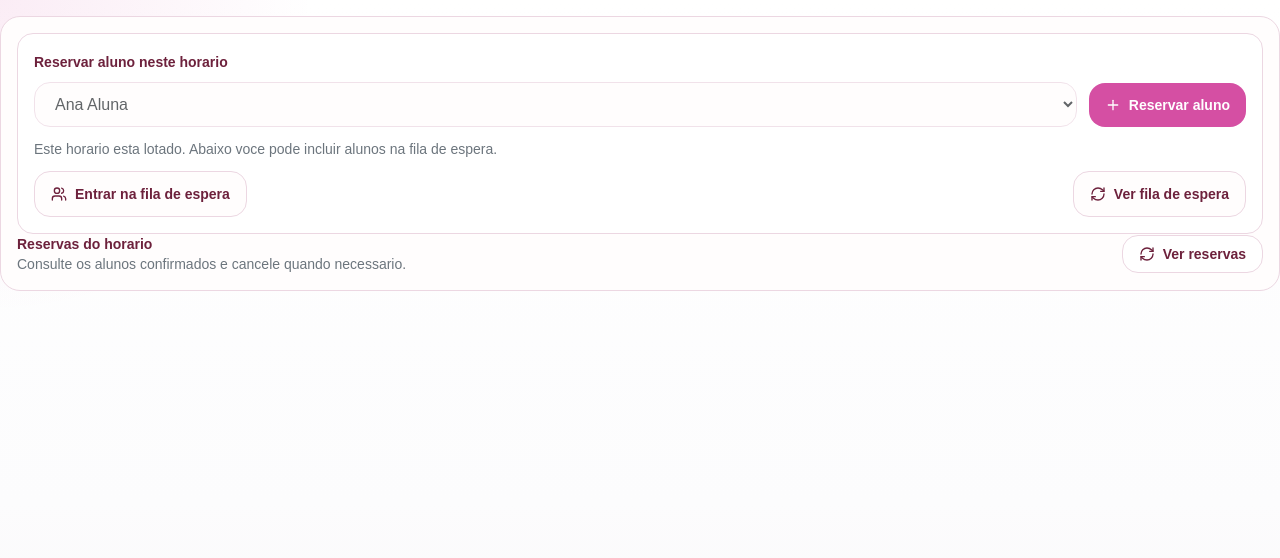
Test: SlotBookingsPanel › remove aluno carregado da fila de espera
This screenshot has width=1280, height=558.
Click the button "Ver fila de espera" at (1159, 194), box [1073,171,1246,217]
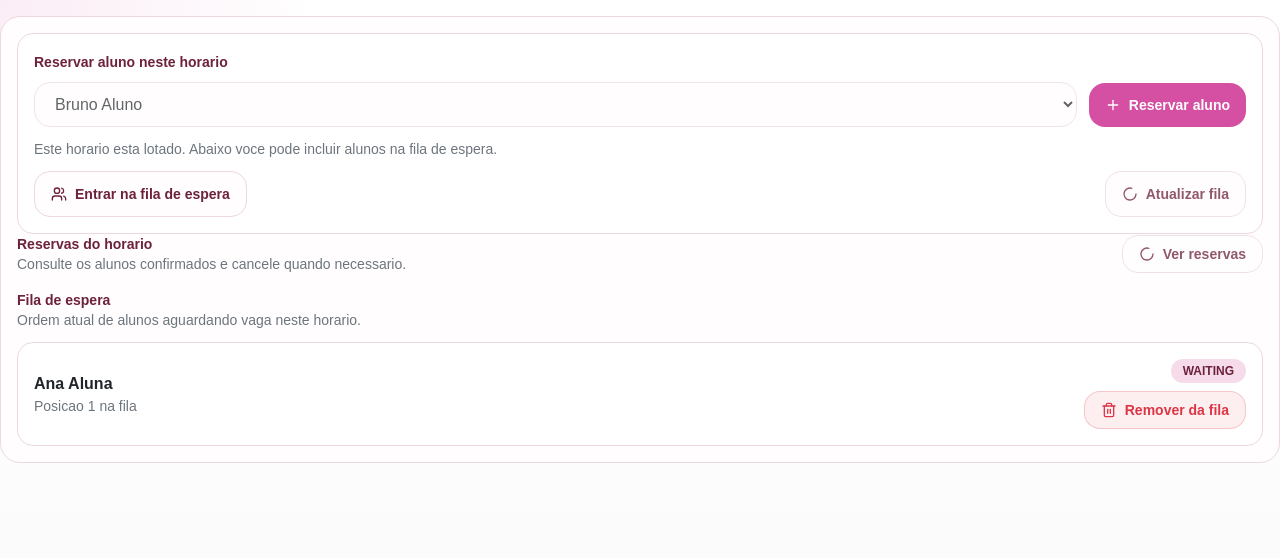
Now the text "Posicao 1 na fila" is shown, box [34,396,137,416]
Click the button "Remover da fila" at (1165, 410), box [1084,391,1246,429]
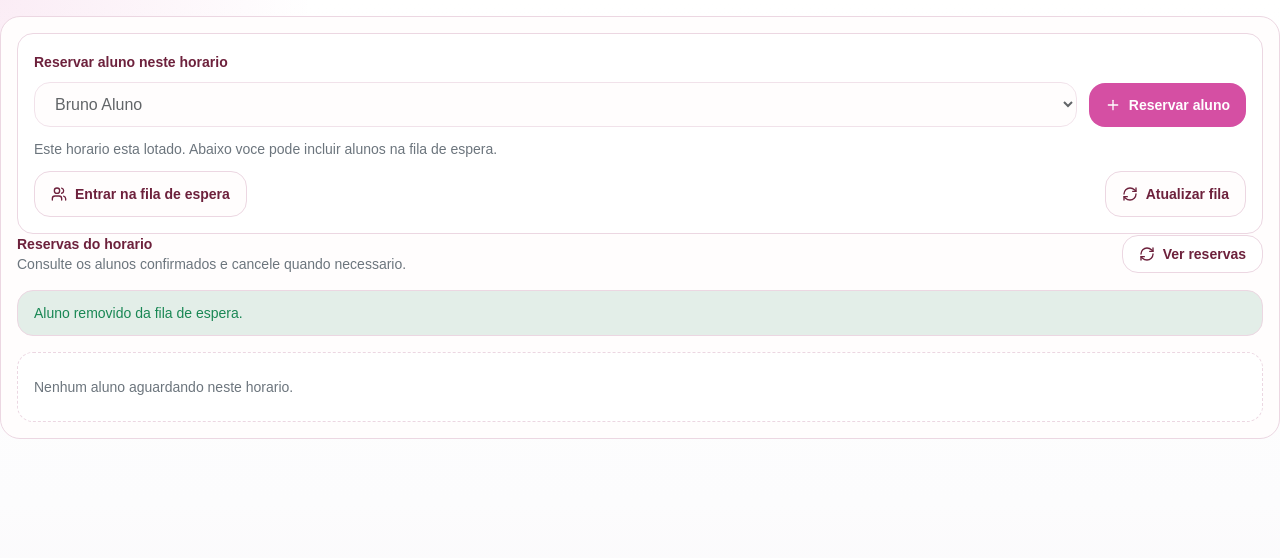
Now the text "Aluno removido da fila de espera." is shown, box [17,290,1263,336]
Now the text "Nenhum aluno aguardando neste horario." is shown, box [17,352,1263,422]
